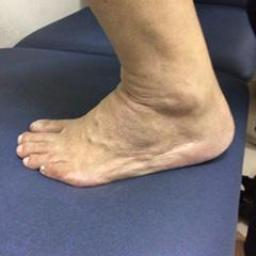Lateral View -Left Foot-: (12, 42, 242, 191)
